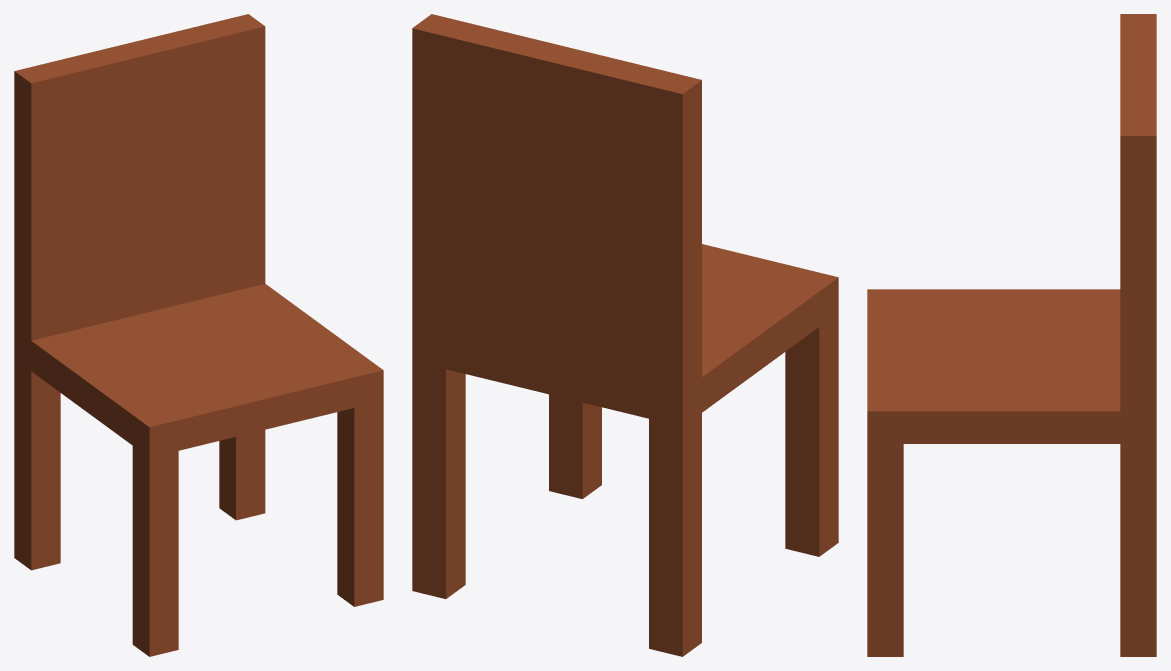
File: Prop_Furniture_Fantasy_Dungeon_Chair_Wooden_03.FBX
3 renders of one model, left to right at view 1: azimuth 30°, elevation 25°; view 2: azimuth 150°, elevation 25°; view 3: azimuth 270°, elevation 25°, orthographic. The views are drawn at different scales.
Parts seen in each view (by area): view 1: Prop_Furniture_Fantasy_Dungeon_Chair_Wooden_03; view 2: Prop_Furniture_Fantasy_Dungeon_Chair_Wooden_03; view 3: Prop_Furniture_Fantasy_Dungeon_Chair_Wooden_03.
Part boxes in pixels (x1,y1,x2,y2): Prop_Furniture_Fantasy_Dungeon_Chair_Wooden_03: (14, 14, 383, 656); Prop_Furniture_Fantasy_Dungeon_Chair_Wooden_03: (412, 14, 838, 656); Prop_Furniture_Fantasy_Dungeon_Chair_Wooden_03: (867, 14, 1156, 656).
Bounding box in the file's own units: 413 × 822 × 413.
